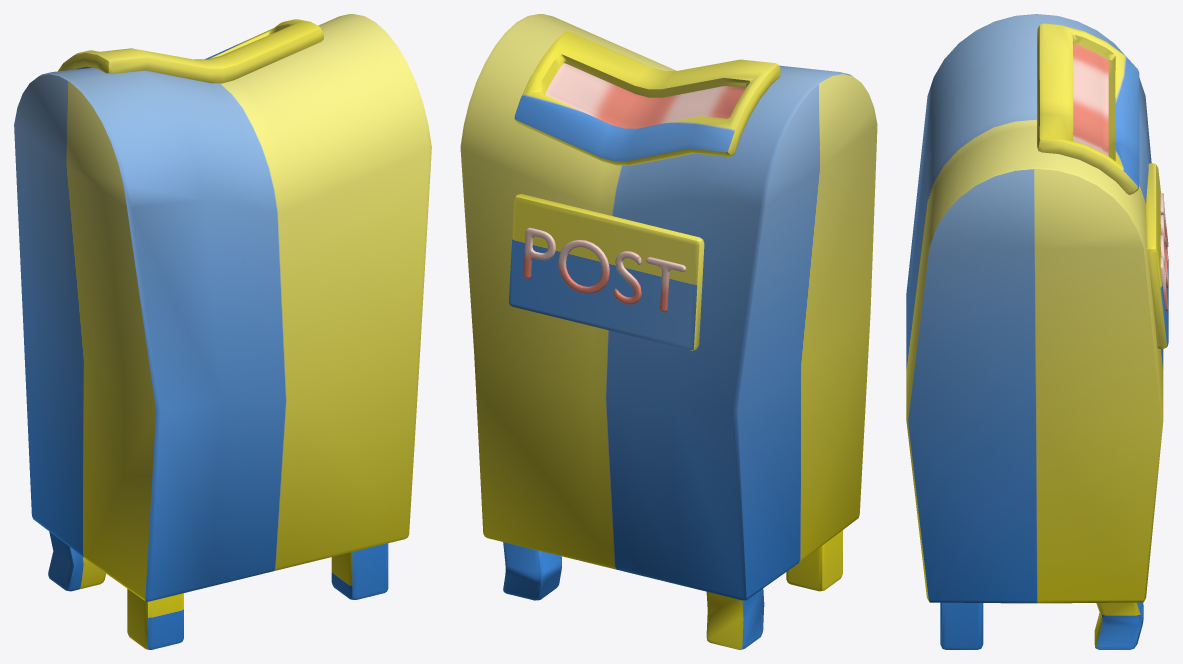
Rendered from MailboxB_purple.fbx.
3 renders of one model, left to right at view 1: azimuth 30°, elevation 25°; view 2: azimuth 150°, elevation 25°; view 3: azimuth 270°, elevation 25°, orthographic. The views are drawn at different scales.
Visible parts, largest first — view 1: MailboxB_base.001, MailboxB_stands.001, MailboxB_detail.001; view 2: MailboxB_base.001, MailboxB_detail.001, MailboxB_stands.001; view 3: MailboxB_base.001, MailboxB_detail.001, MailboxB_stands.001.
Part boxes in pixels (box(x1,y1,x2,y2)): MailboxB_base.001: box(14, 14, 431, 601); MailboxB_stands.001: box(48, 531, 388, 649); MailboxB_detail.001: box(58, 19, 323, 83); MailboxB_base.001: box(460, 14, 877, 600); MailboxB_detail.001: box(509, 31, 780, 350); MailboxB_stands.001: box(503, 530, 842, 649); MailboxB_base.001: box(906, 14, 1163, 603); MailboxB_detail.001: box(1037, 23, 1168, 349); MailboxB_stands.001: box(940, 602, 1143, 649).
Bounding box in the file's own units: 137 × 235 × 107.
